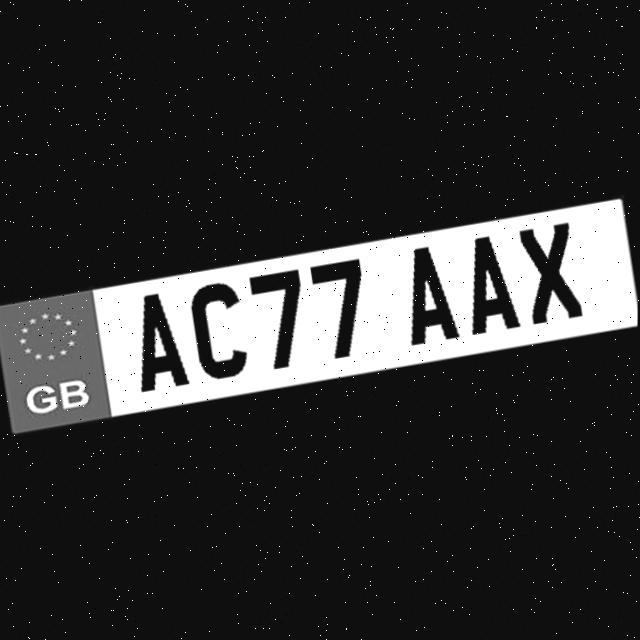license-plates: (0, 197, 638, 433)
